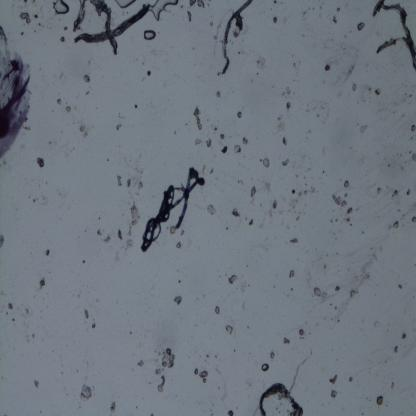Air bubble: (148, 0, 180, 23), (54, 0, 70, 16), (114, 0, 136, 11), (143, 30, 156, 42), (260, 362, 270, 373)
Background material: (258, 382, 302, 416), (289, 350, 312, 394), (125, 202, 140, 238), (158, 348, 178, 371), (191, 106, 204, 132), (343, 57, 356, 79), (362, 252, 376, 271), (79, 383, 91, 402), (204, 201, 219, 216), (276, 113, 288, 131), (156, 376, 167, 392), (199, 368, 209, 384), (310, 285, 322, 297), (349, 287, 360, 300), (80, 124, 90, 138), (36, 154, 46, 168), (114, 172, 123, 187), (255, 56, 266, 68), (172, 292, 182, 305), (332, 193, 341, 207), (388, 220, 399, 230), (289, 236, 299, 247), (260, 158, 270, 169), (136, 357, 146, 368), (185, 10, 193, 23), (109, 400, 117, 413), (288, 269, 297, 280), (115, 229, 124, 240), (39, 276, 46, 290), (232, 206, 240, 218), (329, 374, 338, 384), (124, 239, 133, 249), (196, 0, 205, 10), (359, 124, 368, 134), (300, 31, 309, 41), (342, 215, 352, 224), (372, 320, 382, 329), (153, 365, 161, 376), (376, 395, 384, 406), (242, 300, 250, 311), (273, 198, 280, 210), (214, 304, 221, 316), (324, 62, 333, 71), (233, 144, 241, 154), (194, 137, 204, 145), (96, 228, 104, 238), (330, 388, 338, 398), (115, 122, 122, 133), (32, 377, 39, 388), (221, 144, 228, 155), (251, 186, 258, 197), (205, 136, 212, 147), (227, 323, 234, 334), (390, 189, 398, 198), (288, 200, 296, 209), (6, 301, 14, 310), (282, 158, 291, 166), (144, 68, 152, 77), (357, 23, 365, 32), (229, 276, 238, 284), (334, 283, 341, 293), (83, 74, 90, 84), (341, 199, 348, 209), (251, 406, 258, 416), (247, 376, 253, 387), (332, 13, 338, 24), (0, 232, 4, 248), (241, 137, 249, 145), (168, 227, 176, 235), (104, 235, 112, 243), (283, 337, 291, 345), (322, 291, 327, 303), (269, 351, 275, 361), (126, 178, 132, 188), (375, 87, 381, 97), (400, 331, 406, 341), (376, 186, 383, 194), (227, 408, 234, 416), (236, 110, 243, 118), (190, 0, 197, 8), (366, 86, 373, 94), (297, 188, 303, 197), (176, 241, 182, 250), (344, 179, 350, 188), (84, 309, 89, 319), (282, 136, 287, 146), (406, 187, 411, 197), (215, 89, 222, 96), (84, 89, 92, 95), (286, 102, 292, 110), (298, 328, 304, 336), (272, 16, 278, 24), (411, 123, 416, 132), (397, 283, 404, 289), (286, 207, 292, 214), (364, 272, 370, 279), (66, 106, 71, 114), (394, 344, 398, 354), (289, 284, 294, 292), (25, 307, 30, 315), (57, 98, 62, 106), (352, 82, 356, 92), (317, 11, 322, 19), (295, 214, 300, 222), (390, 381, 395, 389), (31, 331, 36, 339), (411, 153, 416, 161), (411, 216, 416, 224), (310, 185, 314, 194), (399, 214, 405, 220), (46, 139, 52, 145), (44, 250, 50, 256), (410, 134, 416, 140), (347, 207, 352, 214), (342, 47, 347, 54), (92, 321, 96, 329), (138, 181, 142, 189), (287, 88, 291, 96), (209, 20, 213, 28), (181, 228, 185, 236), (302, 10, 306, 18), (202, 165, 206, 173), (291, 188, 296, 194), (81, 259, 87, 264), (396, 208, 402, 213), (322, 146, 325, 156), (194, 368, 199, 374), (408, 94, 414, 99), (348, 377, 354, 382), (249, 218, 253, 225), (220, 133, 224, 140), (210, 168, 214, 175), (304, 190, 309, 195), (299, 336, 305, 340), (237, 50, 241, 56), (134, 103, 138, 109), (292, 62, 296, 68), (76, 292, 80, 298), (238, 180, 244, 184), (404, 82, 408, 88), (295, 198, 299, 204), (322, 168, 326, 174), (323, 263, 327, 268), (306, 108, 310, 113), (214, 353, 218, 358), (97, 216, 101, 221), (173, 130, 177, 135), (12, 318, 16, 323), (344, 193, 348, 198), (368, 95, 372, 100), (402, 113, 406, 118), (149, 412, 154, 416), (328, 301, 332, 306), (363, 98, 366, 104), (320, 4, 323, 10), (206, 353, 209, 359), (298, 211, 302, 215), (281, 91, 285, 95), (336, 8, 340, 12), (349, 146, 353, 150), (225, 225, 228, 230), (214, 36, 217, 41), (107, 156, 110, 161), (296, 174, 299, 179), (178, 279, 181, 284), (6, 310, 9, 315), (317, 114, 320, 119), (344, 33, 347, 38), (312, 6, 315, 11), (334, 305, 337, 310), (368, 398, 371, 402), (307, 103, 310, 107), (362, 230, 365, 234), (337, 268, 340, 272), (129, 331, 132, 335), (33, 198, 36, 202), (215, 127, 218, 131), (256, 72, 259, 76), (335, 219, 339, 222), (330, 219, 333, 223), (356, 207, 359, 211), (401, 165, 403, 171), (308, 6, 311, 10), (246, 324, 249, 328), (274, 0, 277, 4), (322, 120, 325, 124), (377, 152, 380, 156), (409, 150, 412, 154), (361, 159, 364, 163), (332, 209, 336, 212), (361, 412, 364, 416), (394, 102, 397, 106), (320, 104, 322, 109), (327, 252, 329, 257), (273, 284, 275, 289), (308, 332, 311, 335), (335, 252, 338, 255), (392, 111, 395, 114), (350, 223, 353, 226), (247, 283, 250, 286), (330, 348, 333, 351), (313, 107, 316, 110), (303, 175, 305, 179), (338, 319, 340, 323), (135, 406, 137, 410), (404, 160, 406, 164), (388, 163, 390, 167), (234, 348, 236, 352), (218, 386, 220, 390), (400, 154, 402, 158), (61, 371, 63, 374), (340, 178, 342, 181), (281, 1, 283, 4), (404, 100, 406, 103), (350, 30, 352, 33), (414, 263, 416, 266), (402, 223, 404, 226), (305, 183, 307, 186), (404, 93, 406, 95), (412, 90, 414, 92), (358, 123, 359, 127), (323, 107, 325, 109), (246, 218, 247, 221), (316, 105, 317, 108), (397, 153, 398, 156), (337, 359, 338, 362), (371, 247, 372, 250), (413, 296, 414, 298), (326, 103, 328, 104), (405, 152, 407, 153), (365, 174, 366, 176)
Cellulose filter fibre: (74, 4, 149, 44), (373, 0, 416, 68), (220, 0, 253, 75), (90, 0, 118, 57), (70, 0, 86, 35)
Cotton: (140, 169, 204, 258)
Pen: (0, 25, 29, 161)
